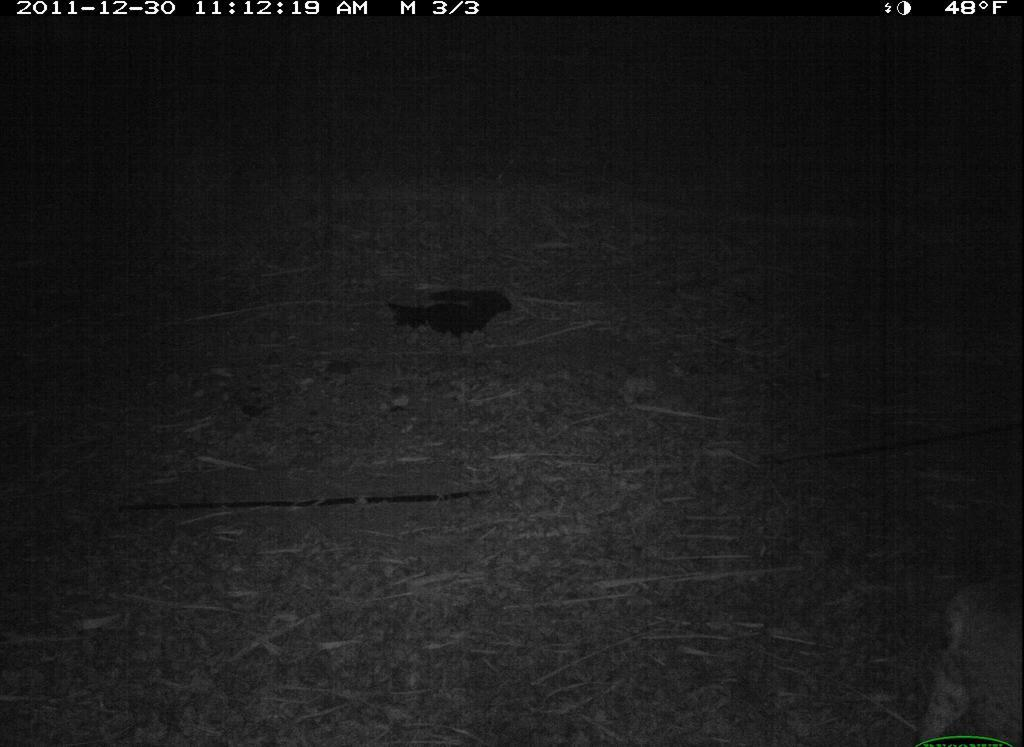bobcat: (907, 573, 1018, 745)
